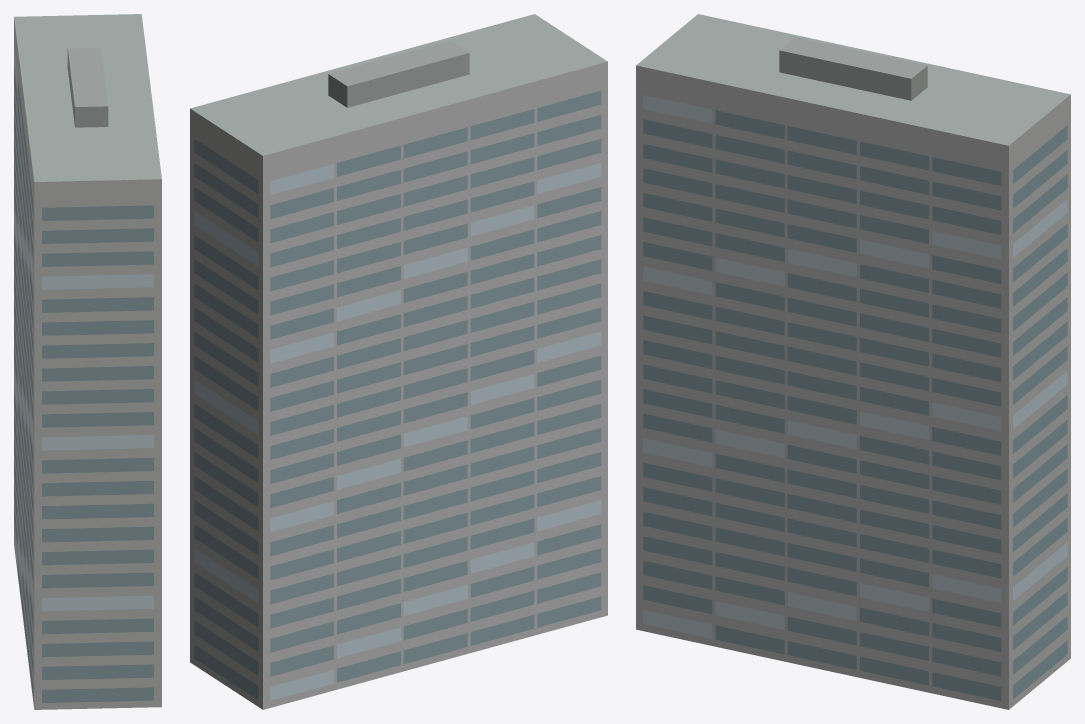
File: apt-a13403002.glb
3 views of the same model, side by side, from view 1: azimuth 30°, elevation 25°; view 2: azimuth 150°, elevation 25°; view 3: azimuth 270°, elevation 25° (orthographic). The views are drawn at different scales.
Visible parts, largest first — view 1: apt-a13403002; view 2: apt-a13403002; view 3: apt-a13403002.
Boxes of the visible parts, box(x1,y1,x2,y2) form: apt-a13403002: box(14, 14, 161, 709); apt-a13403002: box(190, 14, 607, 709); apt-a13403002: box(636, 14, 1070, 709).
Bounding box in the file's own units: 30.87 × 64 × 43.04.
